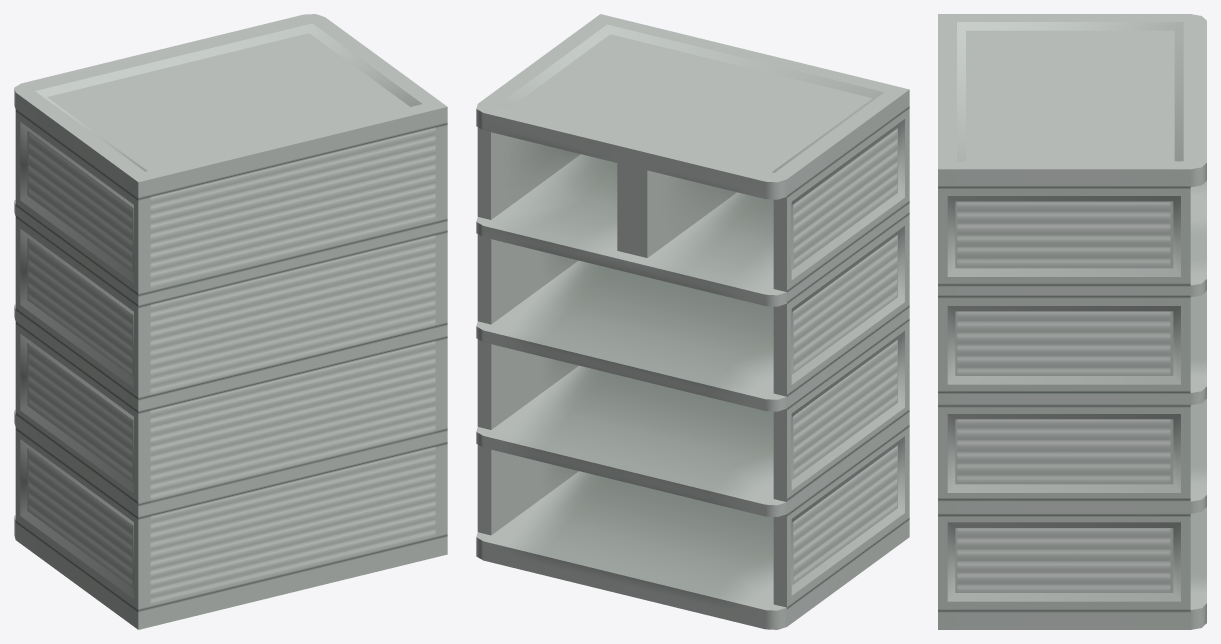
The model's file is PlasticCabinet_Body.fbx.
The picture shows the model from 3 angles, left to right: view 1: azimuth 30°, elevation 25°; view 2: azimuth 150°, elevation 25°; view 3: azimuth 270°, elevation 25°; orthographic projection. The views are drawn at different scales.
Parts seen in each view (by area): view 1: Cabinet_body; view 2: Cabinet_body; view 3: Cabinet_body.
Boxes of the visible parts, <box> form: Cabinet_body: <box>14,14,447,629</box>; Cabinet_body: <box>476,14,909,629</box>; Cabinet_body: <box>938,14,1206,629</box>.
Size of the model in its own units: 129 by 178 by 94.12.
1 material, 1 textured.
